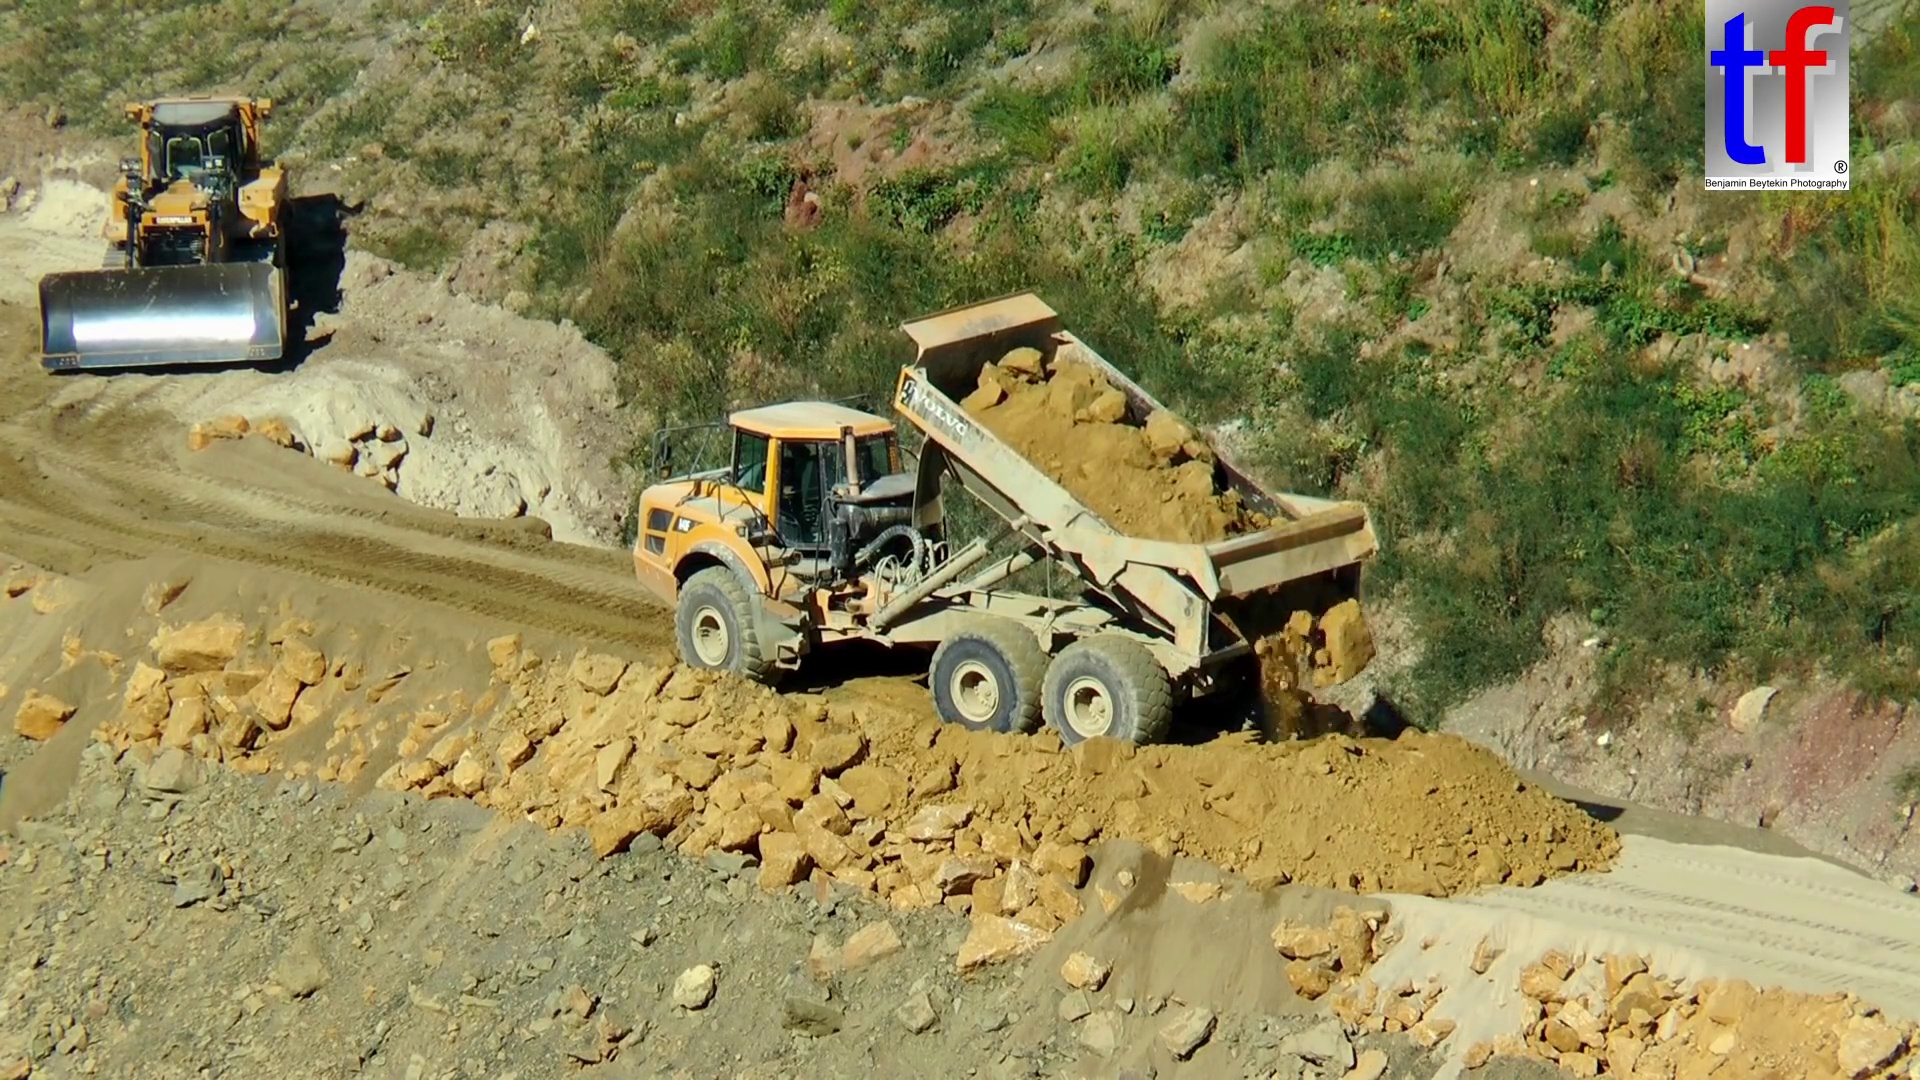bulldozer: (40, 90, 291, 367)
dumper: (638, 294, 1385, 777)
